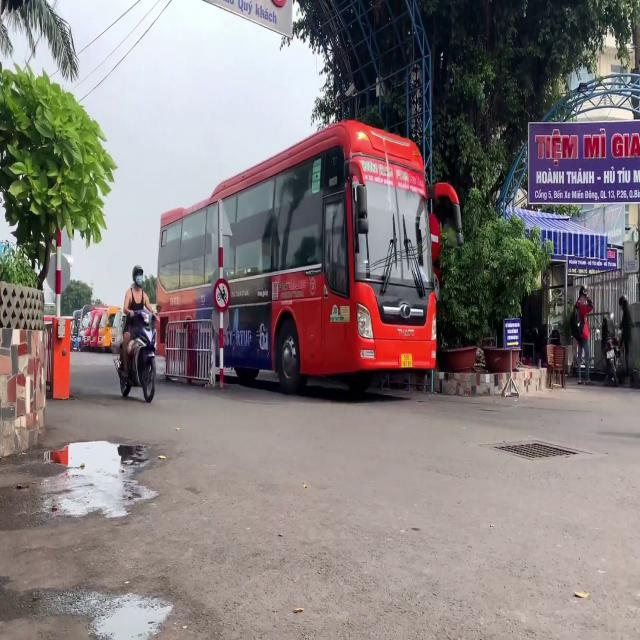bien_vang: (400, 351, 412, 369)
